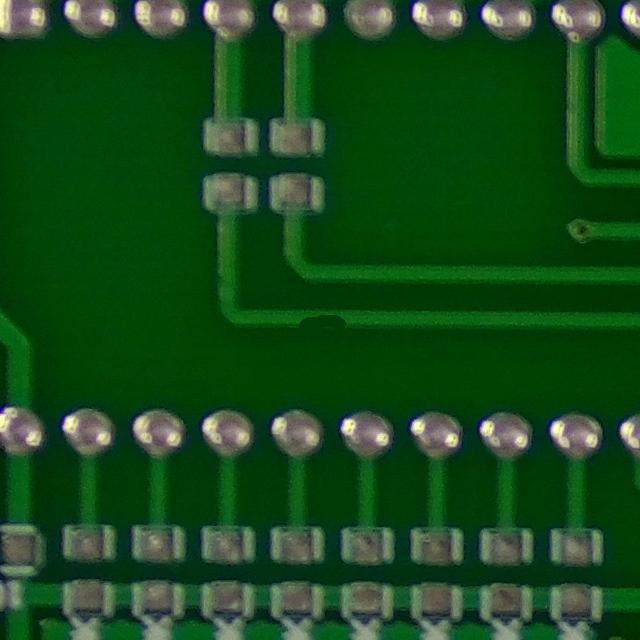mouse_bite: (284, 294, 356, 347)
